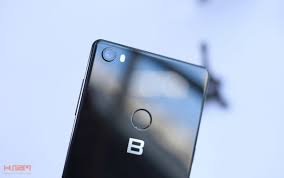bphone: (64, 37, 208, 177)
